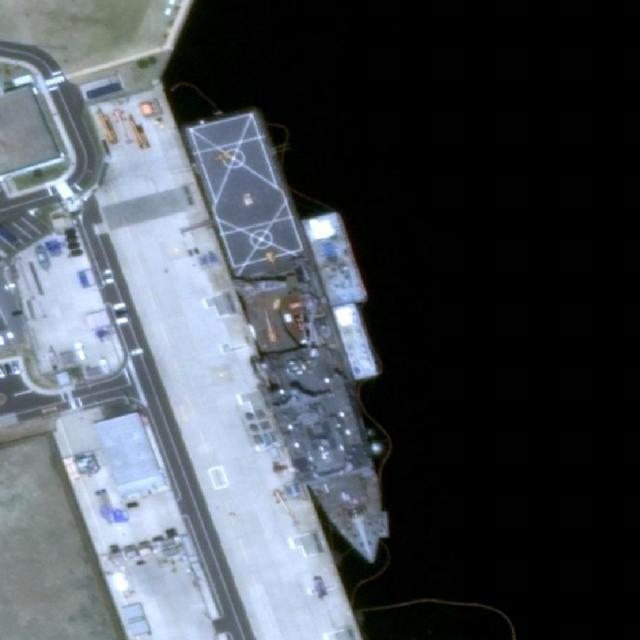Landing: (176, 96, 417, 577)
